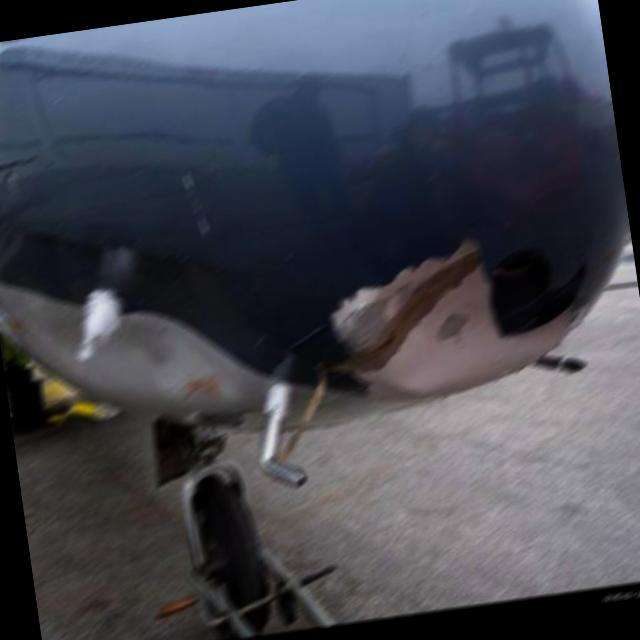dent: (368, 278, 495, 403), (104, 301, 240, 416)
